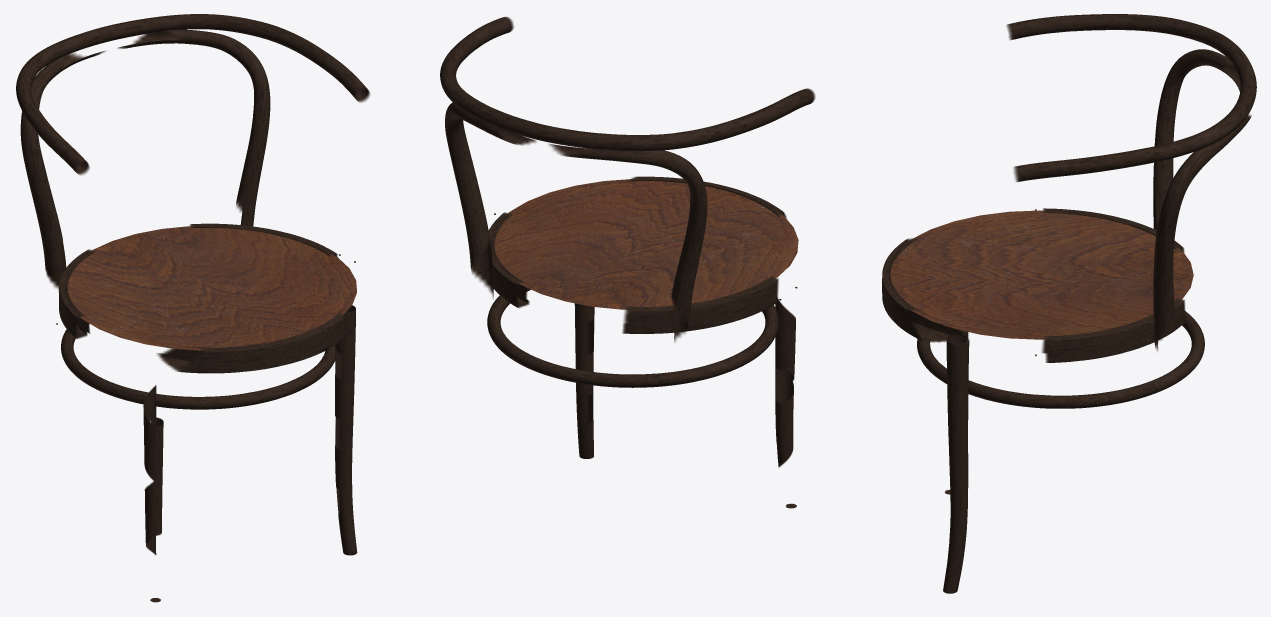
3 renders of one model, left to right at view 1: azimuth 30°, elevation 25°; view 2: azimuth 150°, elevation 25°; view 3: azimuth 270°, elevation 25°, orthographic. The views are drawn at different scales.
Visible parts, largest first — view 1: Thonet 209 Chair_1, Caning_0; view 2: Thonet 209 Chair_1, Caning_0; view 3: Thonet 209 Chair_1, Caning_0.
Part boxes in pixels (bbox=[...]): Thonet 209 Chair_1: bbox=[16, 14, 369, 602]; Caning_0: bbox=[68, 226, 356, 350]; Thonet 209 Chair_1: bbox=[440, 16, 815, 508]; Caning_0: bbox=[494, 179, 798, 309]; Thonet 209 Chair_1: bbox=[882, 14, 1256, 593]; Caning_0: bbox=[890, 210, 1193, 339].
Bounding box in the file's own units: 0.5614 × 0.8 × 0.5878.
2 materials, 2 textured.
